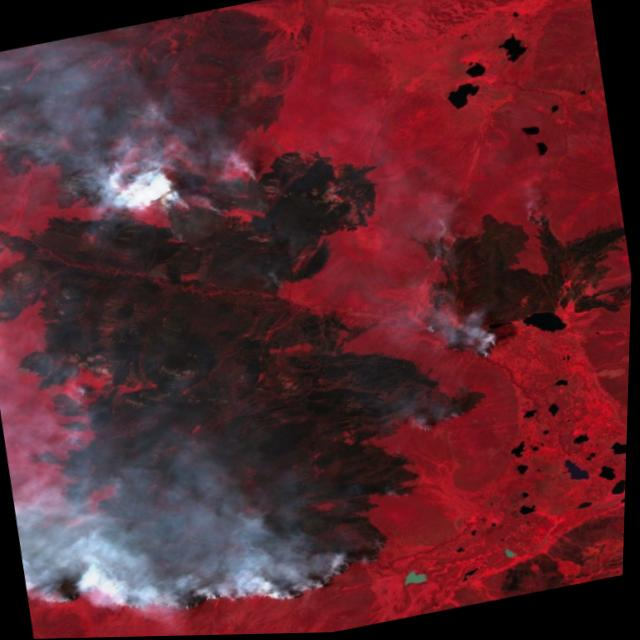fire: (157, 541, 388, 628), (438, 317, 510, 374), (144, 181, 194, 224), (39, 578, 91, 611), (194, 197, 235, 230), (234, 165, 260, 190)
